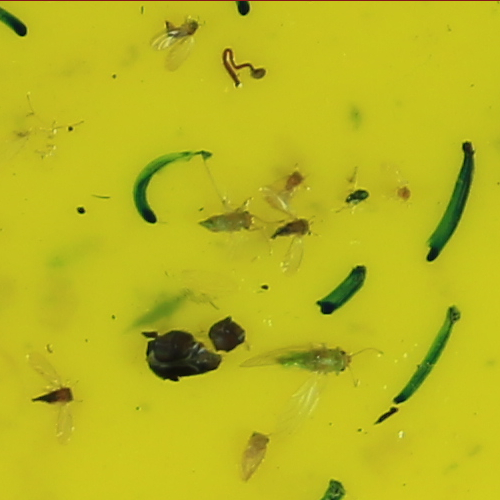Glycaspis: (276, 345, 354, 375), (201, 203, 254, 231)
Platyobria: (242, 429, 272, 475), (283, 169, 309, 194)
psylla: (163, 13, 204, 37), (31, 384, 75, 405), (271, 216, 313, 236)
